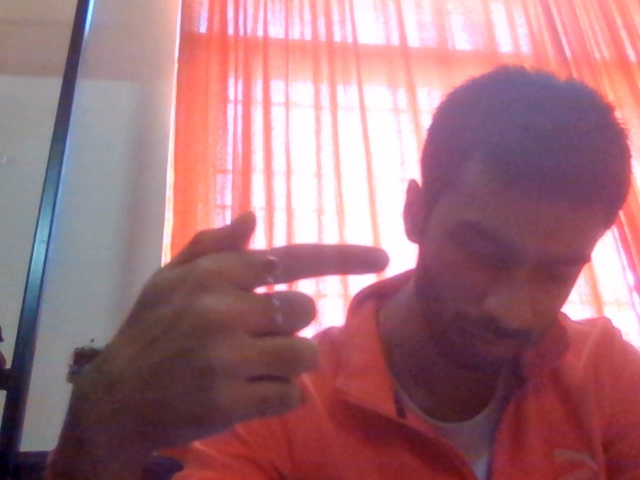G: (35, 202, 414, 480)
